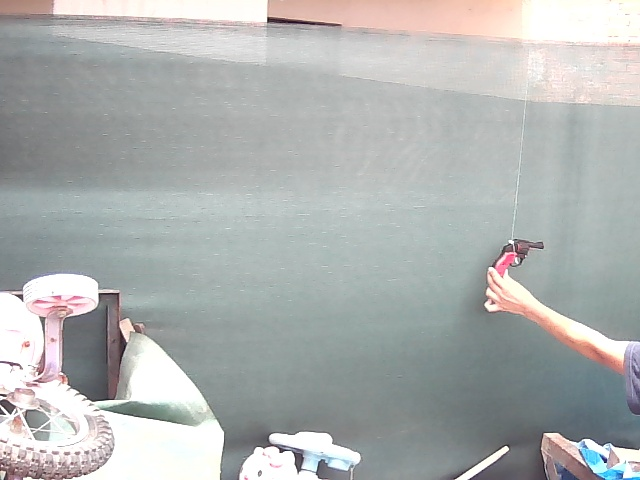pistola: (495, 235, 548, 274)
